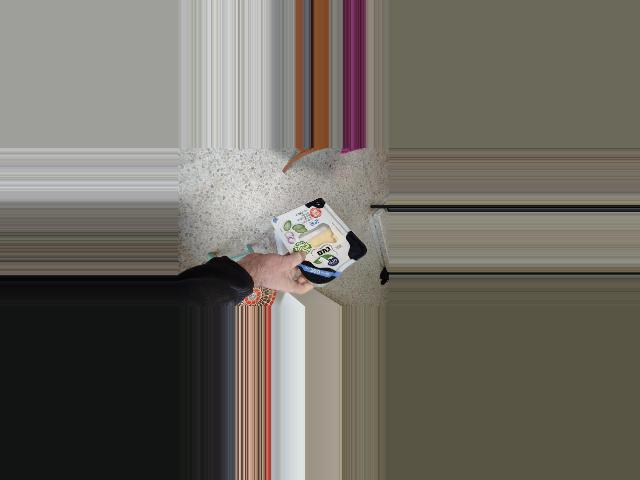cheese: (278, 189, 364, 288)
